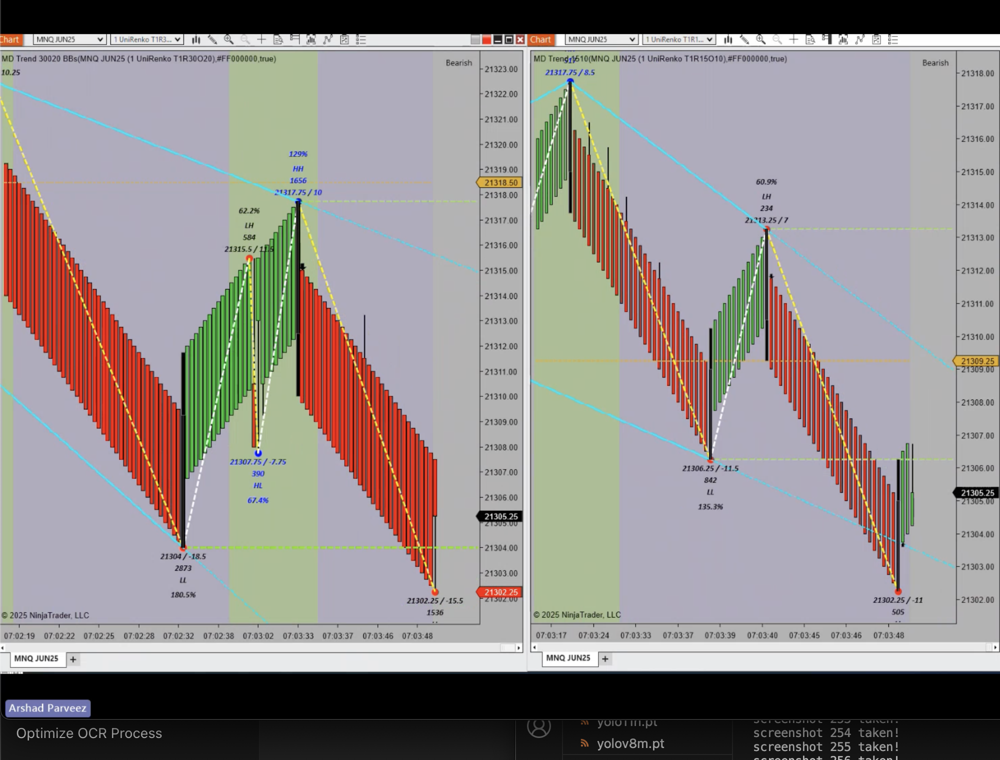HH: (287, 163, 316, 176)
HL: (246, 477, 273, 495)
LH: (757, 187, 779, 207), (240, 217, 255, 233)
LL: (696, 483, 730, 504), (173, 573, 193, 590)
